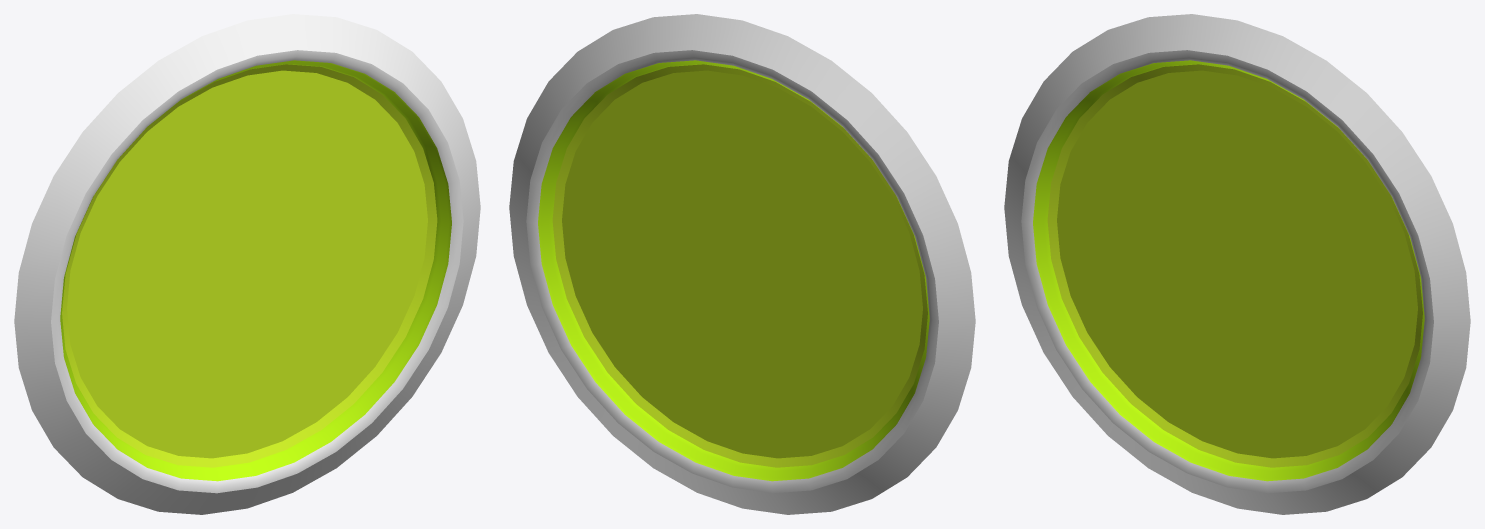
The model's file is part_main-lod0.dae.
The picture shows the model from 3 angles, left to right: view 1: azimuth 30°, elevation 25°; view 2: azimuth 150°, elevation 25°; view 3: azimuth 330°, elevation 25°; orthographic projection.
Visible parts, largest first — view 1: part_main-lod0Xlod0Xp2multimatXp2_multimat_01, part_main-lod0Xlod0Xp2genericXgen_p2_hulltextureaged_02_b; view 2: part_main-lod0Xlod0Xp2multimatXp2_multimat_01, part_main-lod0Xlod0Xp2genericXgen_p2_hulltextureaged_02_b; view 3: part_main-lod0Xlod0Xp2multimatXp2_multimat_01, part_main-lod0Xlod0Xp2genericXgen_p2_hulltextureaged_02_b.
Part boxes in pixels (box(x1,y1,x2,y2)): part_main-lod0Xlod0Xp2multimatXp2_multimat_01: box(60, 60, 449, 478); part_main-lod0Xlod0Xp2genericXgen_p2_hulltextureaged_02_b: box(14, 14, 480, 514); part_main-lod0Xlod0Xp2multimatXp2_multimat_01: box(540, 60, 929, 478); part_main-lod0Xlod0Xp2genericXgen_p2_hulltextureaged_02_b: box(509, 14, 975, 514); part_main-lod0Xlod0Xp2multimatXp2_multimat_01: box(1035, 60, 1424, 478); part_main-lod0Xlod0Xp2genericXgen_p2_hulltextureaged_02_b: box(1004, 14, 1470, 514).
Size of the model in its own units: 8 by 8 by 0.5832.
